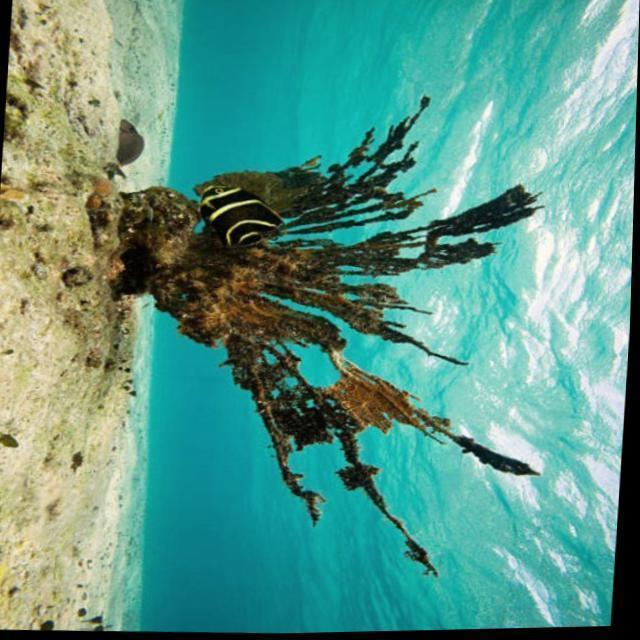Dead Coral: (88, 78, 571, 591)
